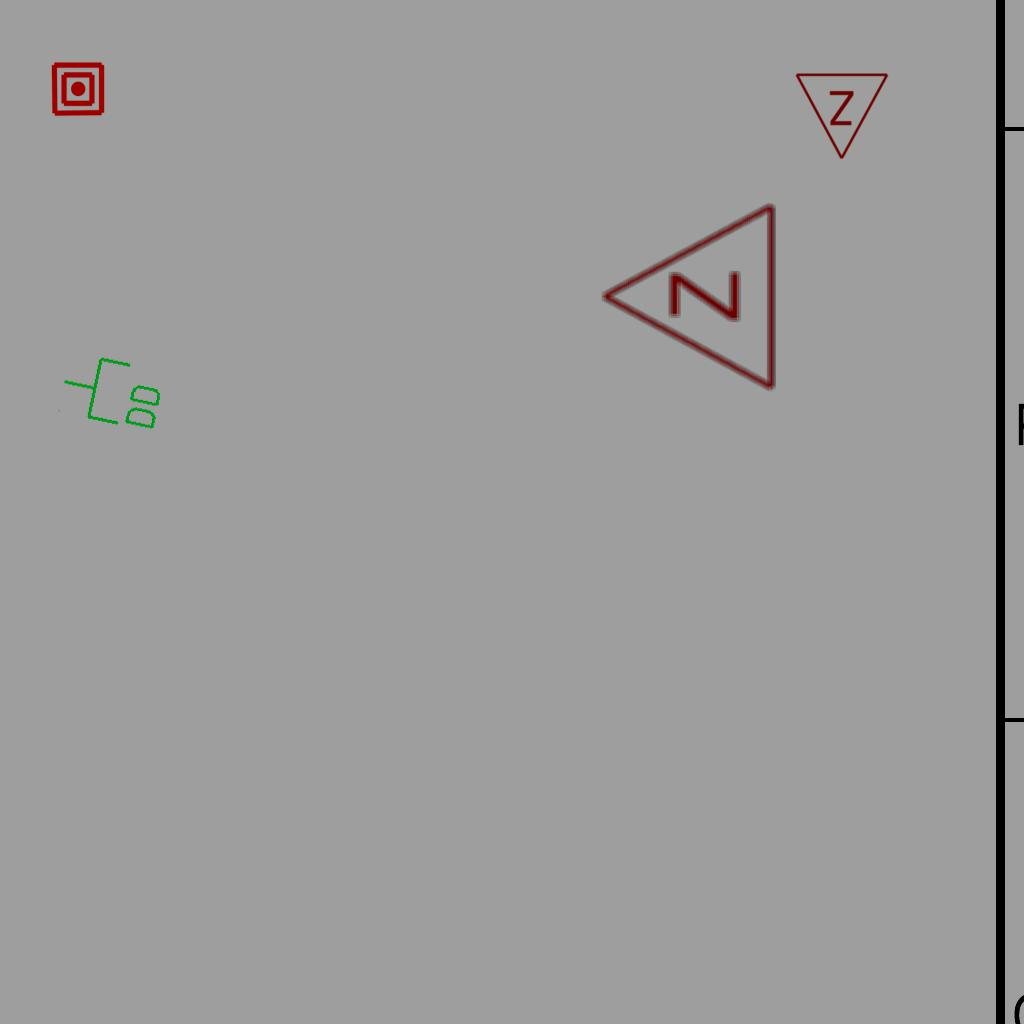Datenanschluss_zweifach: (54, 348, 171, 437)
NAM-Nichtautomatischer_Melder: (50, 61, 106, 117)
Zimmersignalleuchte: (589, 201, 789, 397), (794, 66, 892, 166)
